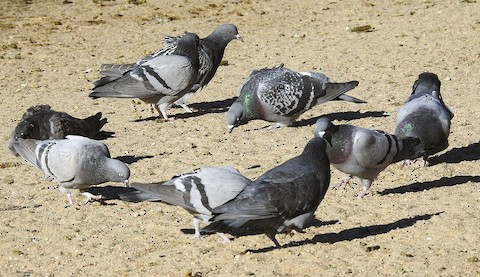pigeon: (200, 135, 355, 257), (114, 160, 282, 234), (87, 24, 205, 129), (221, 61, 371, 141), (13, 129, 136, 216), (310, 115, 428, 201), (138, 19, 257, 103), (389, 65, 457, 175), (8, 95, 119, 154)
